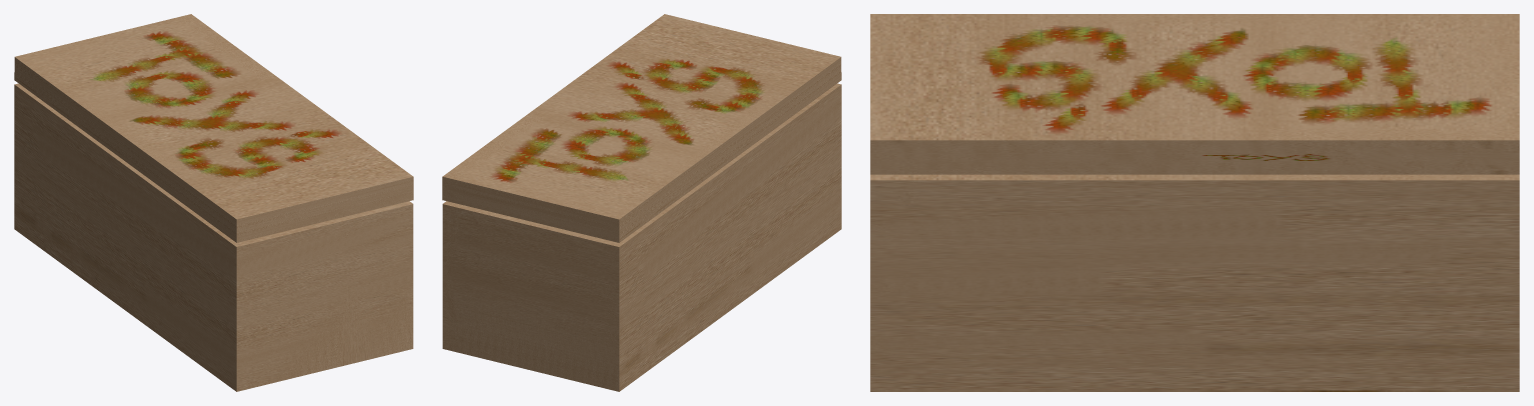
The model's file is toybox.fbx.
3 renders of one model, left to right at view 1: azimuth 30°, elevation 25°; view 2: azimuth 150°, elevation 25°; view 3: azimuth 270°, elevation 25°, orthographic. The views are drawn at different scales.
Visible parts, largest first — view 1: pCube1, pasted__pCube2; view 2: pCube1, pasted__pCube2; view 3: pCube1, pasted__pCube2.
Part boxes in pixels (<box>): pCube1: <box>14,83,413,391</box>; pasted__pCube2: <box>14,14,413,242</box>; pCube1: <box>442,83,841,391</box>; pasted__pCube2: <box>442,14,841,242</box>; pCube1: <box>870,174,1519,391</box>; pasted__pCube2: <box>870,14,1519,174</box>.
Bounding box in the file's own units: 5.53 × 5.15 × 12.04.
1 material, 1 textured.
